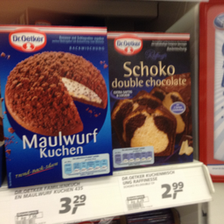cake: (1, 26, 112, 191), (106, 30, 200, 170)
